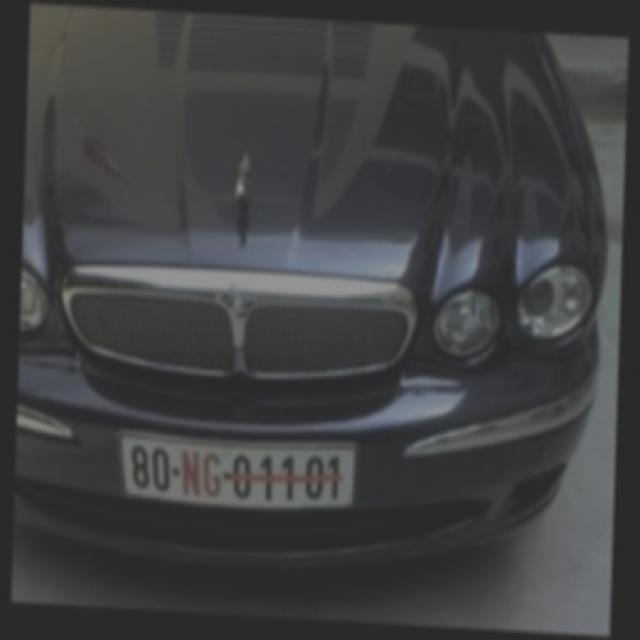bien_ngoai_giao: (121, 434, 361, 513)
